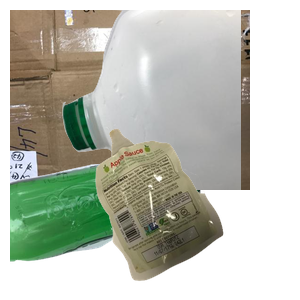cardboard: (10, 10, 250, 190)
glass: (10, 149, 203, 300)
plastic: (60, 10, 300, 190)
trash: (93, 126, 300, 300)
